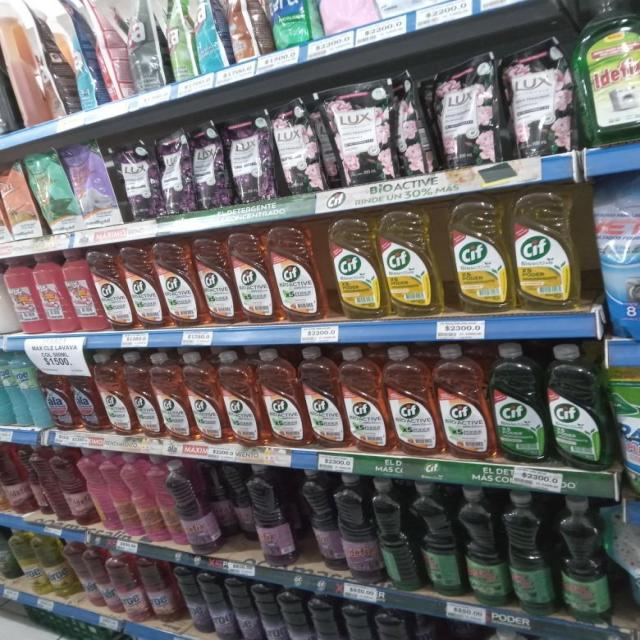ala_conc_rojo: (43, 358, 71, 432), (72, 358, 97, 433)
cif_conc_bot_amarilla: (513, 188, 581, 312), (448, 194, 510, 314), (383, 206, 440, 318), (330, 213, 381, 321)
cif_conc_botella_roja: (439, 343, 490, 460), (388, 345, 437, 456), (274, 222, 324, 324), (343, 346, 386, 453), (260, 347, 302, 449), (303, 346, 342, 450), (221, 349, 258, 447), (235, 230, 273, 324), (186, 350, 219, 445), (161, 243, 197, 329), (199, 238, 233, 326), (154, 352, 185, 442), (128, 247, 160, 330), (95, 251, 126, 332), (98, 352, 127, 436), (127, 351, 154, 439)
cif_conc_botella_verde: (549, 343, 609, 471), (492, 342, 546, 464)
